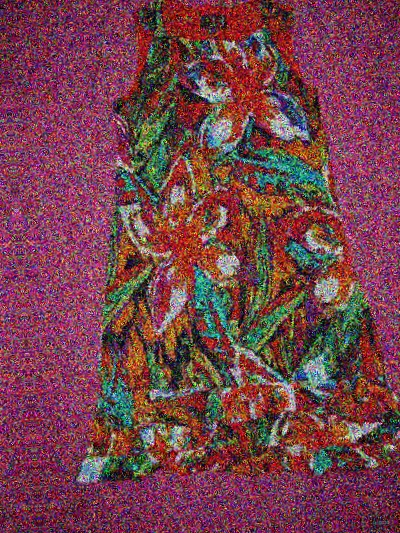Dress: (36, 0, 400, 515), (0, 15, 4, 533)
